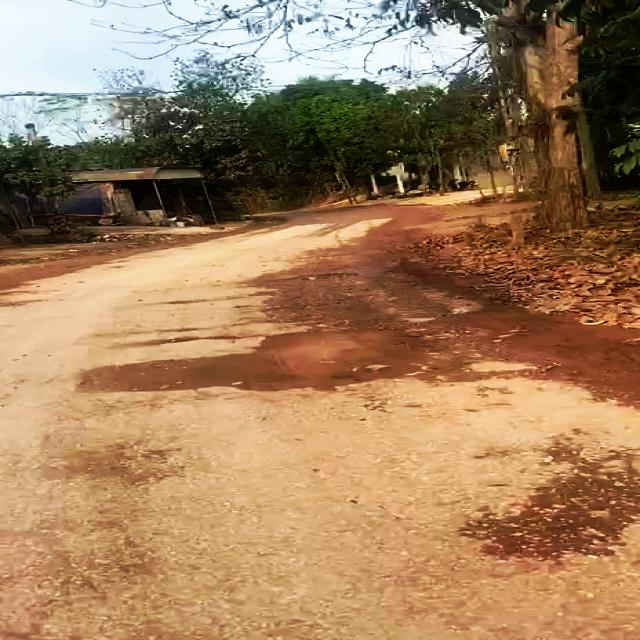pothole: (72, 318, 458, 401), (473, 446, 640, 564)
